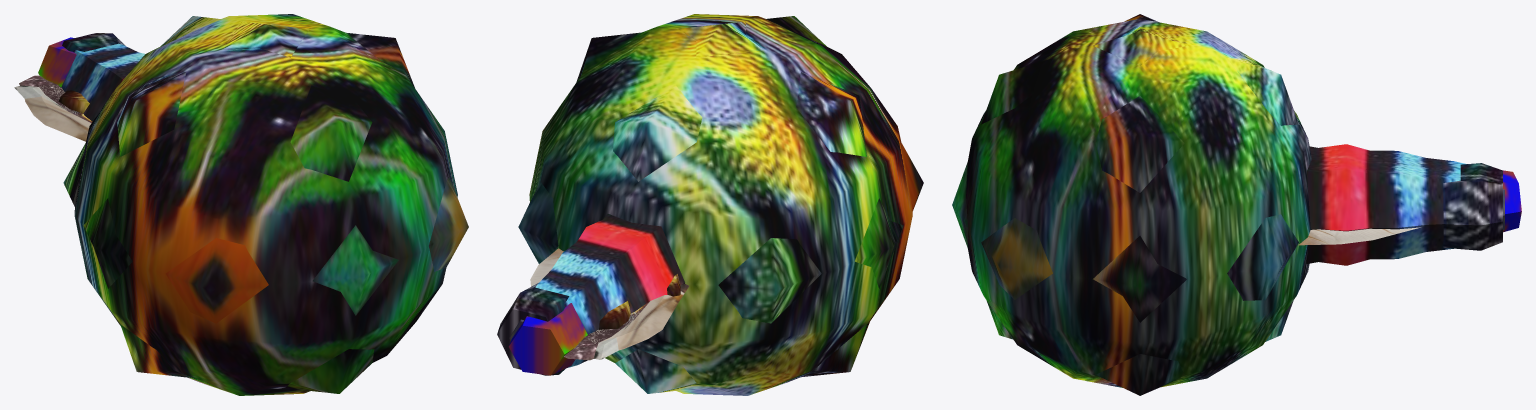
Rendered from insectParts_export.fbx.
3 renders of one model, left to right at view 1: azimuth 30°, elevation 25°; view 2: azimuth 150°, elevation 25°; view 3: azimuth 270°, elevation 25°, orthographic. The views are drawn at different scales.
Parts seen in each view (by area): view 1: ballA, ballA_loRes, abdomenB, wingF, legUpA, legMidA, wingA, legFootA; view 2: ballA, ballA_loRes, abdomenB, legUpA, wingF, legMidA, wingA, legFootA, wingD; view 3: ballA, ballA_loRes, abdomenB, legMidA, wingF, legUpA.
Boxes of the visible parts, x1,y1,x2,y2 form: ballA: [74, 14, 457, 395]; ballA_loRes: [63, 16, 468, 393]; abdomenB: [61, 43, 144, 121]; wingF: [24, 85, 91, 141]; legUpA: [38, 37, 76, 86]; legMidA: [62, 33, 125, 51]; wingA: [19, 75, 92, 122]; legFootA: [58, 90, 89, 113]; ballA: [529, 14, 912, 395]; ballA_loRes: [518, 16, 923, 393]; abdomenB: [509, 214, 684, 367]; legUpA: [508, 303, 587, 375]; wingF: [530, 248, 688, 350]; legMidA: [497, 283, 569, 375]; wingA: [564, 301, 649, 360]; legFootA: [599, 274, 680, 329]; wingD: [594, 309, 638, 359]; ballA: [966, 18, 1311, 387]; ballA_loRes: [952, 14, 1298, 395]; abdomenB: [1306, 144, 1504, 265]; legMidA: [1443, 163, 1502, 250]; wingF: [1298, 227, 1420, 245]; legUpA: [1503, 170, 1521, 232].
Bounding box in the file's own units: 1.02 × 1.02 × 1.52.
